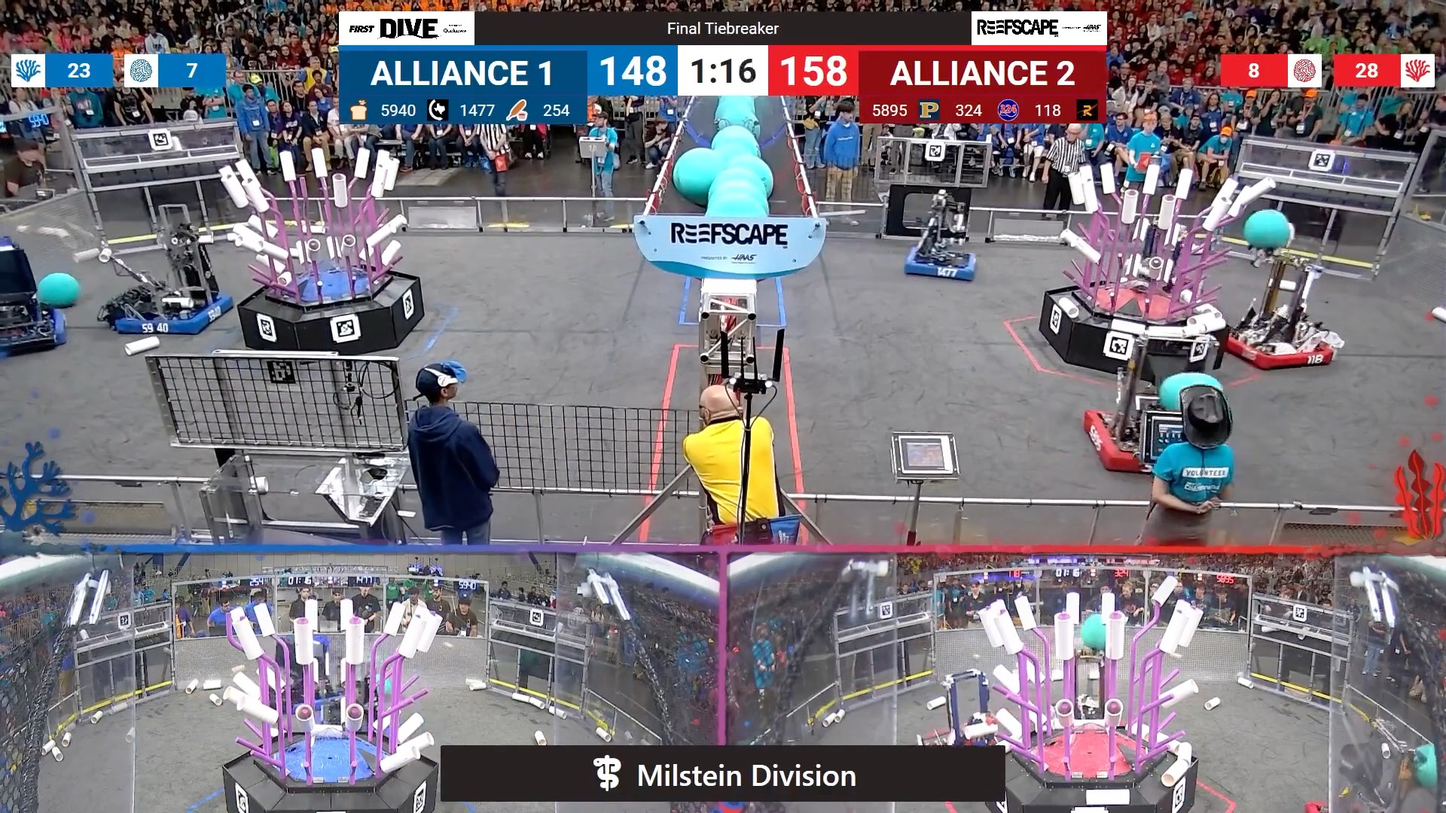bumpers: (1078, 409, 1199, 481), (107, 286, 240, 341), (1212, 324, 1346, 378), (0, 307, 71, 361), (896, 246, 984, 287)
